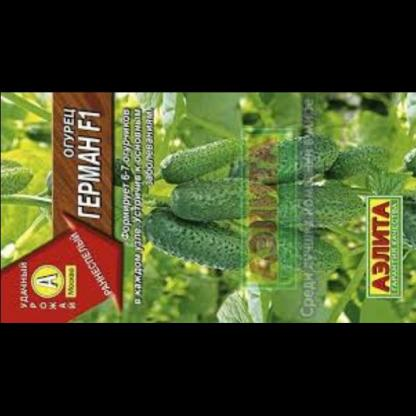cucumber: (138, 206, 262, 284), (233, 220, 347, 278), (258, 121, 362, 179), (154, 183, 273, 230), (146, 140, 248, 190), (263, 182, 364, 229)
